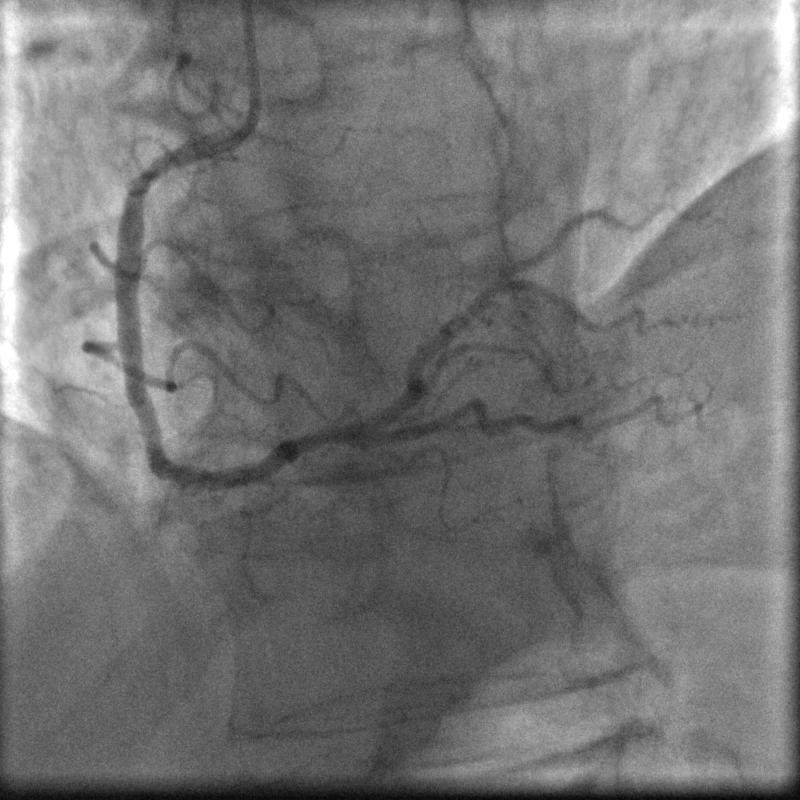Stenosis: (127, 155, 161, 187)
